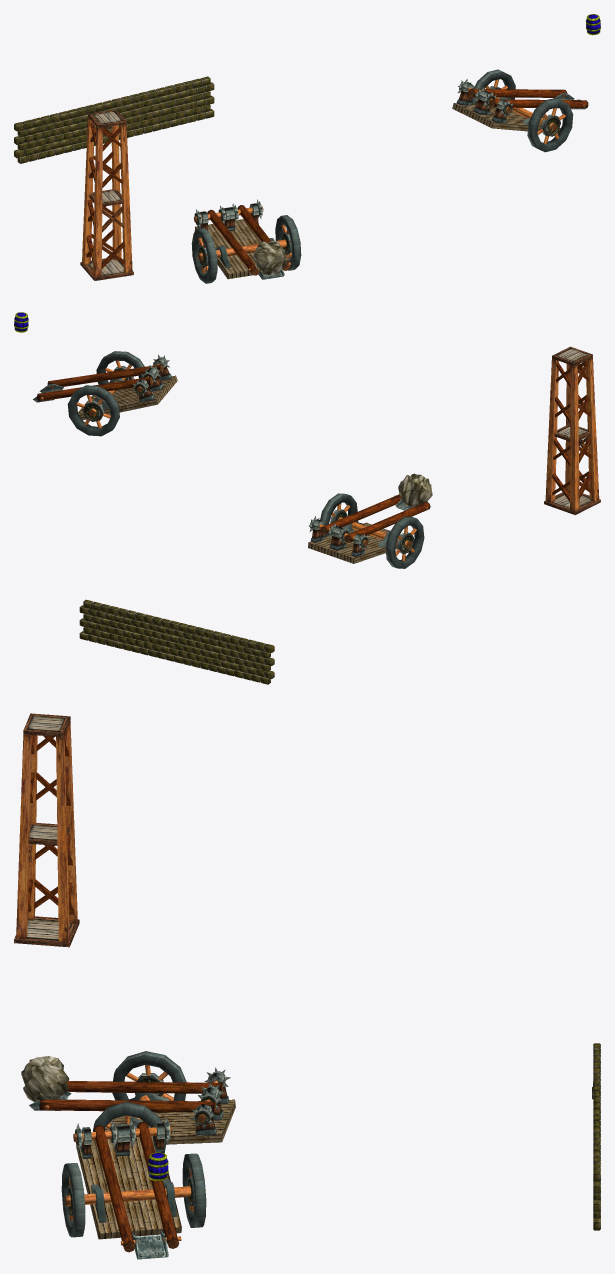
File: CONTRAPTION5.fbx
The picture shows the model from 3 angles, top to bottom: view 1: azimuth 30°, elevation 25°; view 2: azimuth 150°, elevation 25°; view 3: azimuth 270°, elevation 25°; orthographic projection. The views are drawn at different scales.
Parts seen in each view (by area): view 1: CONTRAPTION5; view 2: CONTRAPTION5; view 3: CONTRAPTION5.
Part boxes in pixels (left/top/right/bottom): CONTRAPTION5: left=14, top=14, right=600, bottom=283; CONTRAPTION5: left=14, top=312, right=600, bottom=684; CONTRAPTION5: left=14, top=713, right=600, bottom=1259.
Bounding box in the file's own units: 274471 × 105827 × 182973.
Materials: 16 (16 with a texture image).
